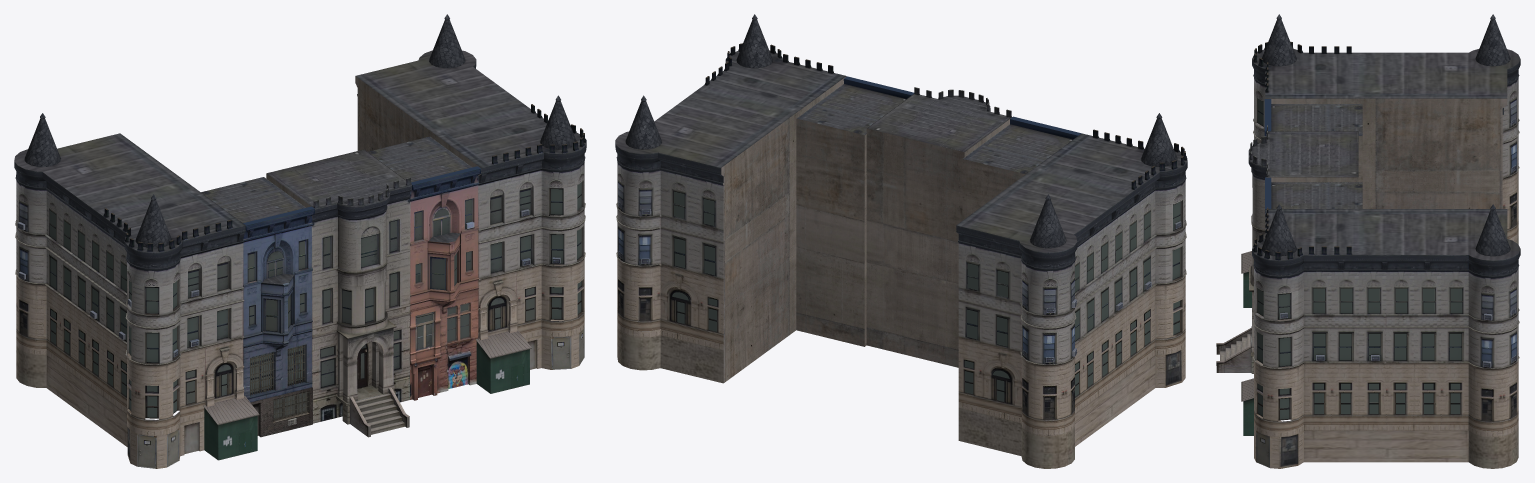
File: city_nyc_homes.glb
The picture shows the model from 3 angles, left to right: view 1: azimuth 30°, elevation 25°; view 2: azimuth 150°, elevation 25°; view 3: azimuth 270°, elevation 25°; orthographic projection. The views are drawn at different scales.
Parts seen in each view (by area): view 1: jg.004, jg.006, jg.001, jg.002, jg.003, jg.005; view 2: jg.004, jg.003, jg.006, jg.001; view 3: jg.004, jg.003, jg.001, jg.006, jg.002.
Part boxes in pixels (x1,y1,x2,y2): jg.004: [14, 14, 586, 468]; jg.006: [201, 136, 480, 437]; jg.001: [266, 149, 411, 437]; jg.002: [203, 329, 531, 460]; jg.003: [144, 76, 480, 377]; jg.005: [250, 345, 309, 420]; jg.004: [615, 14, 1187, 468]; jg.003: [721, 76, 1025, 382]; jg.006: [797, 76, 1081, 174]; jg.001: [867, 87, 1011, 152]; jg.004: [1252, 14, 1520, 468]; jg.003: [1265, 98, 1507, 368]; jg.001: [1216, 125, 1358, 373]; jg.006: [1264, 99, 1362, 213]; jg.002: [1241, 251, 1253, 435].
Bounding box in the file's own units: 188 × 104 × 113.
6 materials, 6 textured.
